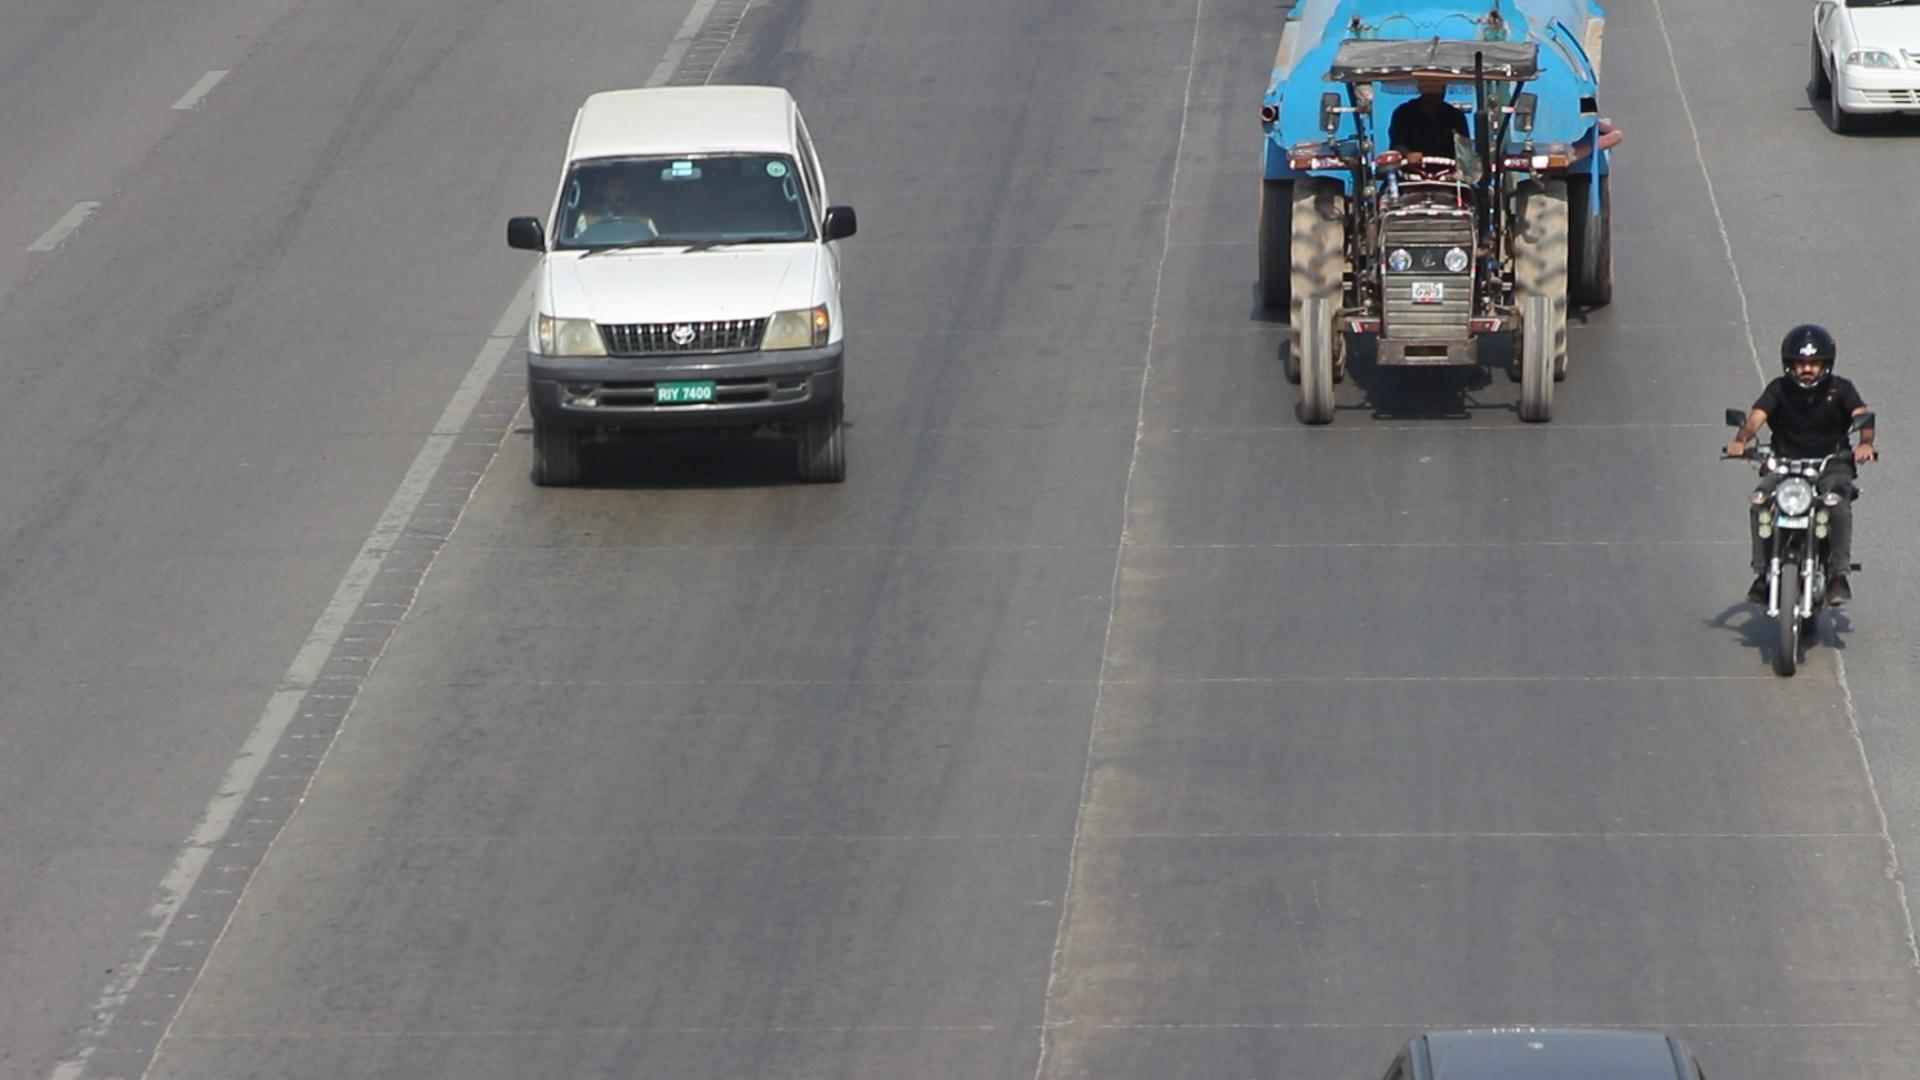windshield: (554, 153, 818, 257)
